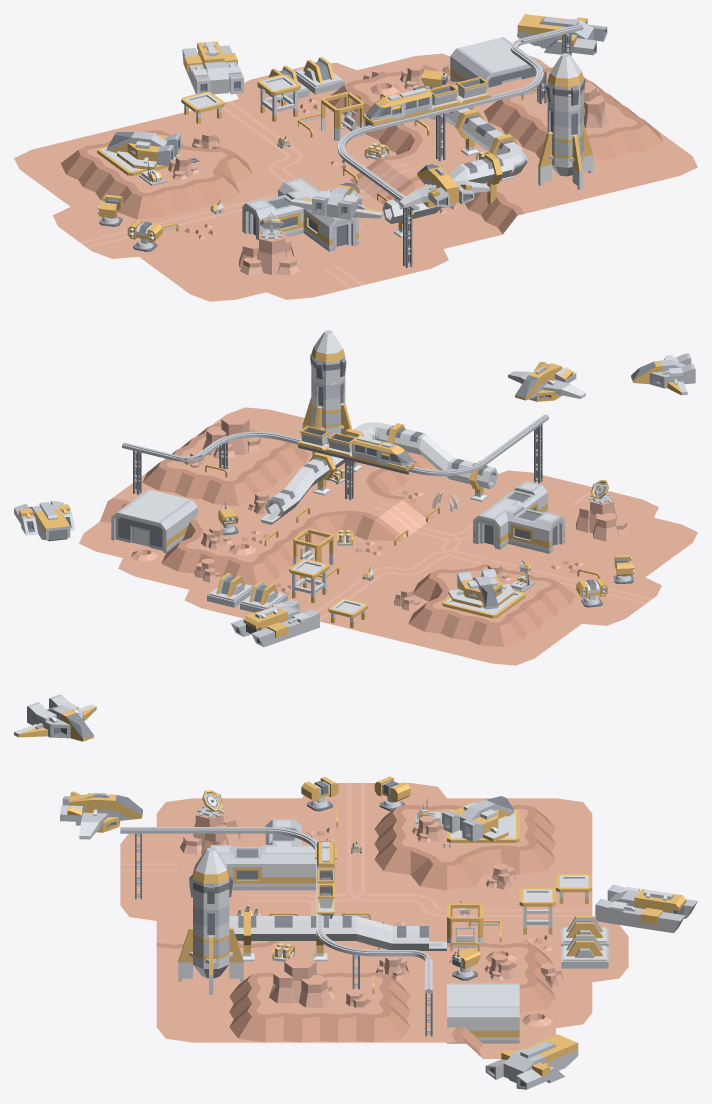
Rendered from martian_world.glb.
3 renders of one model, top to bottom at view 1: azimuth 30°, elevation 25°; view 2: azimuth 150°, elevation 25°; view 3: azimuth 270°, elevation 25°, orthographic. The views are drawn at different scales.
Visible parts, largest first — view 1: craft_cargoB, hangar_smallA, craft_cargoA, craft_speederD, craft_speederB, rock_largeA.001, craft_speederC, rocket_baseA, platform_high, corridor_end.003, machine_generatorLarge.001, rocket_sidesA (+96 smaller); view 2: hangar_smallA, craft_cargoB, craft_speederD, craft_cargoA, craft_speederB, craft_speederC, rock_largeA.001, rock_largeA.003, pipe_rampLarge, gate, corridor_end, platform_high (+45 smaller); view 3: hangar_smallA, craft_cargoB, craft_cargoA, craft_speederD, rock_largeA.003, craft_speederC, craft_speederB, rocket_baseA, pipe_rampSmall, corridor_split, corridor_windowClosed, rock_largeA.001 (+31 smaller).
Part boxes in pixels (x1,y1,x2,y2): craft_cargoB: [182, 41, 243, 94]; hangar_smallA: [450, 37, 543, 89]; craft_cargoA: [517, 14, 607, 55]; craft_speederD: [399, 164, 490, 207]; craft_speederB: [107, 132, 180, 169]; rock_largeA.001: [239, 229, 299, 275]; craft_speederC: [291, 182, 382, 219]; rocket_baseA: [538, 125, 593, 190]; platform_high: [257, 74, 300, 121]; corridor_end.003: [320, 214, 358, 251]; machine_generatorLarge.001: [295, 57, 344, 94]; rocket_sidesA: [547, 94, 583, 139]; hangar_smallA: [111, 489, 197, 552]; craft_cargoB: [231, 599, 319, 647]; craft_speederD: [508, 362, 585, 401]; craft_cargoA: [14, 500, 74, 541]; craft_speederB: [448, 568, 514, 609]; craft_speederC: [631, 353, 695, 395]; rock_largeA.001: [576, 494, 630, 541]; rock_largeA.003: [202, 414, 263, 459]; pipe_rampLarge: [405, 430, 467, 482]; gate: [115, 515, 163, 550]; corridor_end: [473, 510, 508, 549]; platform_high: [289, 558, 329, 602]; hangar_smallA: [447, 983, 519, 1043]; craft_cargoB: [595, 884, 697, 933]; craft_cargoA: [485, 1034, 578, 1089]; craft_speederD: [60, 791, 142, 839]; rock_largeA.003: [269, 956, 335, 1007]; craft_speederC: [14, 694, 96, 741]; craft_speederB: [442, 796, 514, 841]; rocket_baseA: [178, 927, 243, 994]; pipe_rampSmall: [338, 916, 410, 949]; corridor_split: [265, 842, 301, 890]; corridor_windowClosed: [229, 845, 265, 890]; rock_largeA.001: [180, 807, 240, 854].
Size of the model in its own units: 20.43 by 5 by 18.84.
